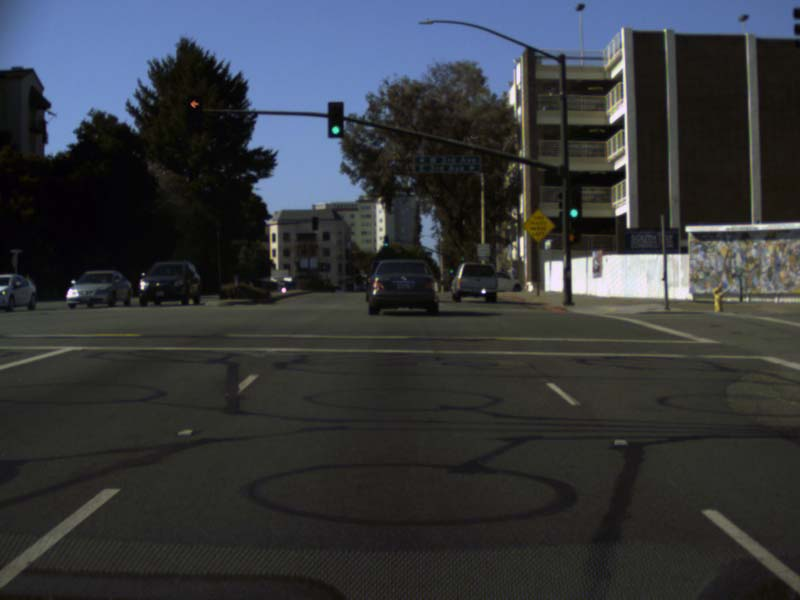Green: (327, 102, 343, 137), (567, 183, 581, 219), (449, 260, 455, 272), (383, 235, 389, 246), (459, 254, 464, 260)
Red: (189, 95, 202, 119)
